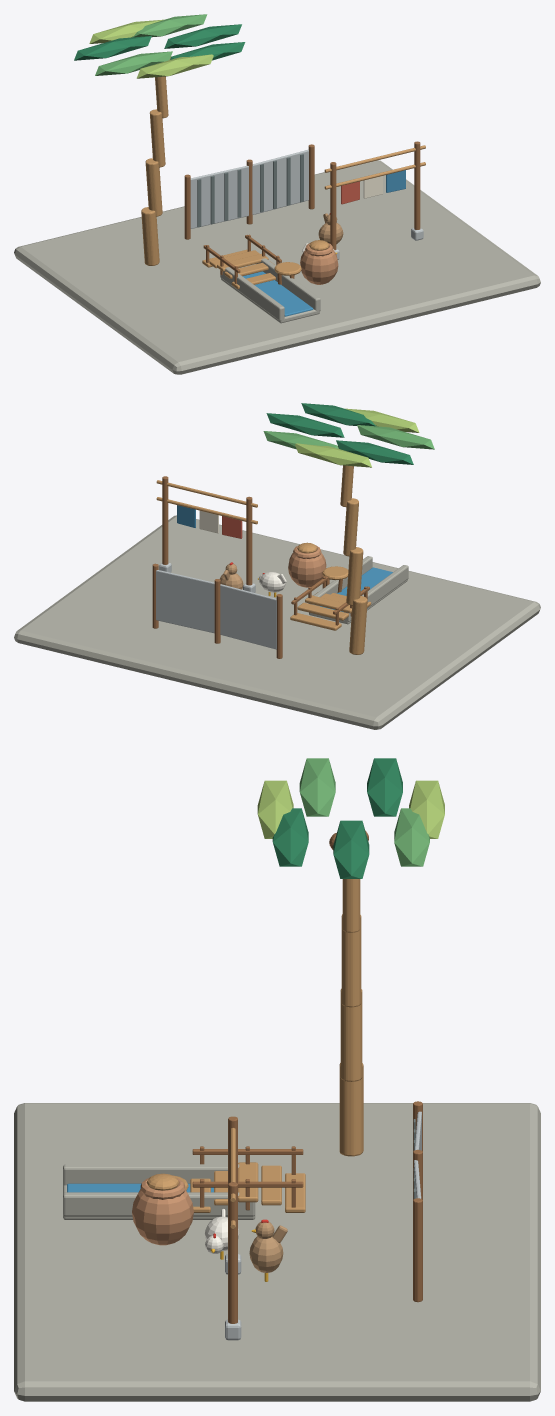
Rendered from kampong-props-v2.glb.
3 renders of one model, top to bottom at view 1: azimuth 30°, elevation 25°; view 2: azimuth 150°, elevation 25°; view 3: azimuth 270°, elevation 25°, orthographic. The views are drawn at different scales.
Visible parts, largest first — view 1: Ground, Zinc panel, Zinc panel.001, Coconut frond, Coconut frond.003, Water jar body, Coconut frond.005, Drain wall, Coconut frond.004, Drain water, Coconut frond.001, Coconut trunk (+9 smaller); view 2: Ground, Zinc panel.001, Zinc panel, Coconut frond, Coconut frond.004, Coconut frond.002, Coconut frond.003, Water jar body, Coconut frond.006, Coconut trunk, Drain wall, Coconut trunk.001 (+15 smaller); view 3: Ground, Drain wall, Drain wall.001, Water jar body, Coconut trunk, Coconut frond, Coconut frond.004, Coconut frond.003, Coconut trunk.001, Coconut frond.006, Coconut frond.001, Coconut trunk.002 (+8 smaller).
Part boxes in pixels (box(x1,y1,x2,y2)): Ground: box(14, 160, 540, 374); Zinc panel: box(190, 165, 248, 228); Zinc panel.001: box(252, 149, 308, 214); Coconut frond: box(164, 24, 241, 48); Coconut frond.003: box(74, 36, 151, 60); Water jar body: box(300, 250, 338, 284); Coconut frond.005: box(136, 54, 213, 78); Drain wall: box(220, 267, 284, 320); Coconut frond.004: box(95, 51, 172, 75); Drain water: box(243, 271, 313, 316); Coconut frond.001: box(132, 14, 207, 37); Coconut trunk: box(141, 207, 159, 265); Ground: box(14, 515, 540, 729); Zinc panel.001: box(156, 570, 214, 633); Zinc panel: box(220, 584, 276, 649); Coconut frond: box(266, 413, 344, 437); Coconut frond.004: box(357, 425, 434, 449); Coconut frond.002: box(295, 443, 371, 467); Coconut frond.003: box(336, 440, 413, 464); Water jar body: box(288, 552, 326, 587); Coconut frond.006: box(301, 403, 375, 426); Coconut trunk: box(349, 596, 367, 654); Drain wall: box(344, 565, 408, 621); Coconut trunk.001: box(346, 547, 363, 605); Ground: box(14, 1103, 540, 1401); Drain wall: box(63, 1164, 239, 1185); Drain wall.001: box(63, 1192, 255, 1216); Water jar body: box(132, 1189, 193, 1245); Coconut trunk: box(339, 1063, 363, 1156); Coconut frond: box(333, 820, 369, 878); Coconut frond.004: box(299, 758, 335, 816); Coconut frond.003: box(367, 758, 402, 816); Coconut trunk.001: box(340, 988, 362, 1081); Coconut frond.006: box(272, 808, 308, 866); Coconut frond.001: box(394, 808, 429, 866); Coconut trunk.002: box(341, 914, 361, 1007).
Bounding box in the file's own units: 9.2 × 5.71 × 7.13.
1 material, 1 textured.
